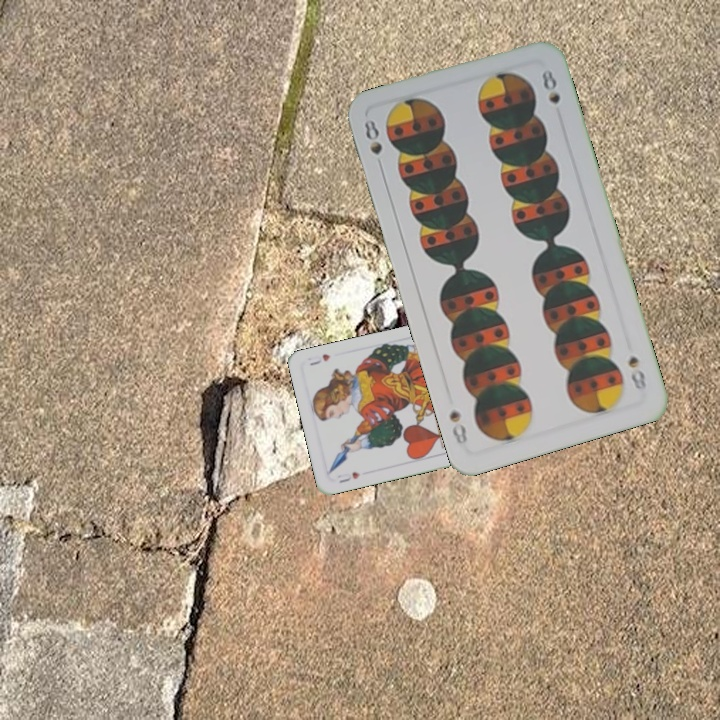HU: (333, 468, 363, 486)
S8: (357, 116, 385, 157), (624, 352, 649, 392)
